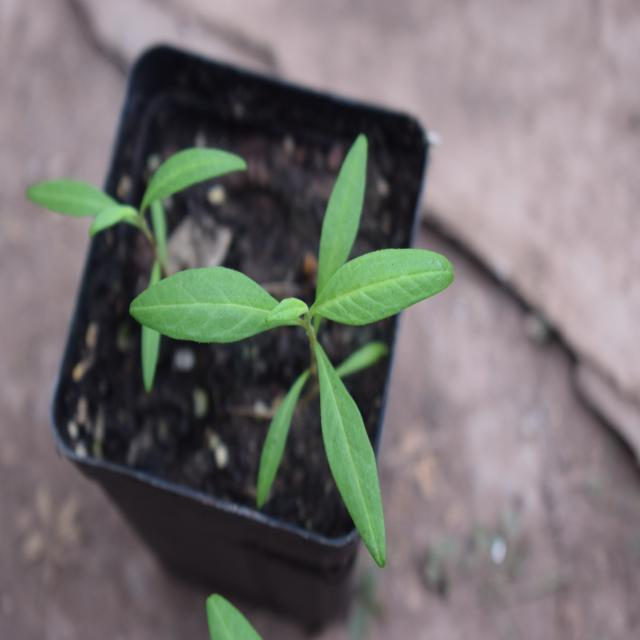white_smart_weed: (130, 179, 459, 600), (46, 136, 268, 407)
